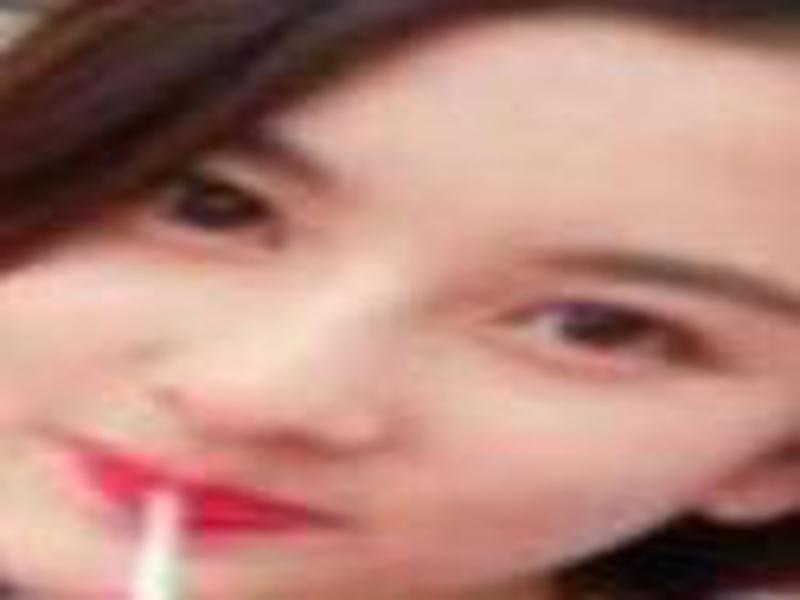without_mask: (21, 21, 776, 580)
